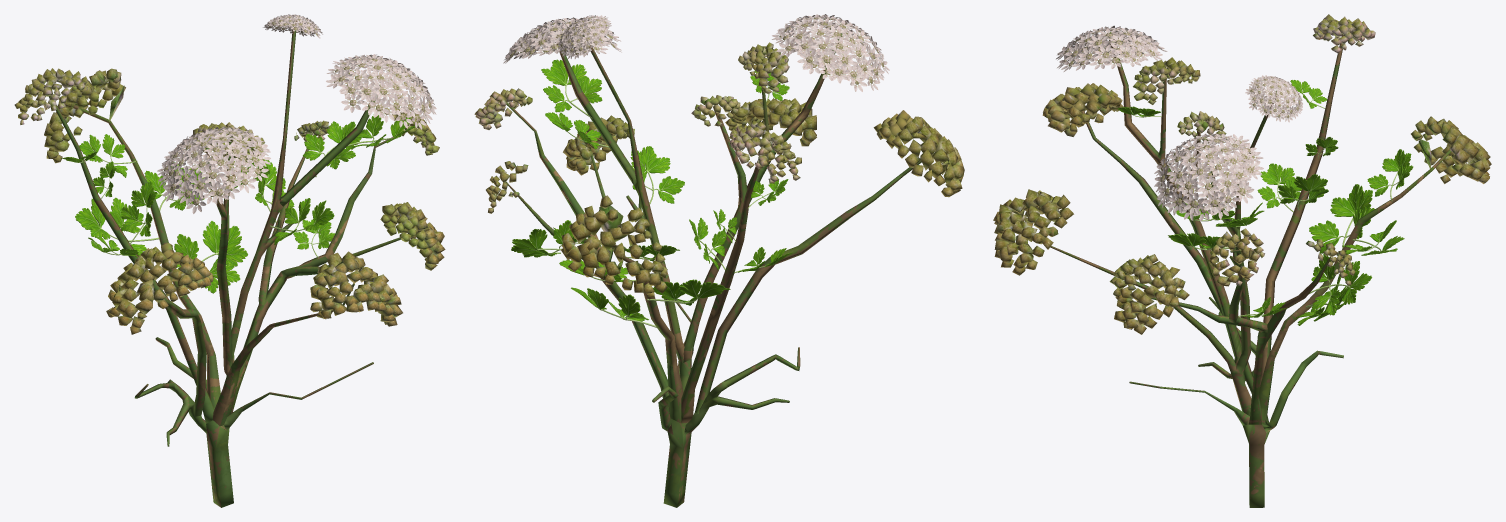
File: cilantro.glb
The picture shows the model from 3 angles, left to right: view 1: azimuth 30°, elevation 25°; view 2: azimuth 150°, elevation 25°; view 3: azimuth 270°, elevation 25°; orthographic projection.
Visible parts, largest first — view 1: Vert.001, Vert, Cube.003, Cube.001, Mesh0, Mesh0.002, Mesh0.009, Mesh0.005, Mesh0.010, Cube.002, Mesh0.003, Mesh0.008 (+3 smaller); view 2: Vert, Vert.001, Cube.003, Cube.001, Mesh0.008, Cube.002, Mesh0.010, Mesh0.002, Mesh0.012, Mesh0, Mesh0.009, Mesh0.005; view 3: Vert, Vert.001, Cube.001, Cube.003, Cube.002, Mesh0.002, Mesh0.012, Mesh0.004, Mesh0.003, Mesh0.005, Mesh0.001, Mesh0.010.
Part boxes in pixels (x1,y1,x2,y2): Vert.001: (48,21,415,507); Vert: (14,68,445,334); Cube.003: (157,126,270,213); Cube.001: (326,54,436,129); Mesh0: (174,221,247,293); Mesh0.002: (75,197,159,255); Mesh0.009: (303,121,361,176); Mesh0.005: (121,181,157,244); Mesh0.010: (270,198,334,244); Cube.002: (263,14,322,38); Mesh0.003: (79,134,137,177); Mesh0.008: (347,114,418,148); Vert: (474,42,964,297); Vert.001: (505,28,933,507); Cube.003: (771,14,889,91); Cube.001: (503,17,621,63); Mesh0.008: (541,59,602,118); Cube.002: (558,15,611,58); Mesh0.010: (630,146,684,204); Mesh0.002: (647,279,730,305); Mesh0.012: (511,220,576,257); Mesh0: (571,287,656,327); Mesh0.009: (545,112,609,149); Mesh0.005: (689,218,726,270); Vert: (993,14,1491,334); Vert.001: (1039,32,1451,507); Cube.001: (1154,133,1263,221); Cube.003: (1056,25,1167,71); Cube.002: (1245,75,1302,122); Mesh0.002: (1309,184,1374,253); Mesh0.012: (1309,254,1372,315); Mesh0.004: (1257,163,1301,212); Mesh0.003: (1367,149,1413,201); Mesh0.005: (1278,174,1328,210); Mesh0.001: (1342,220,1404,255); Mesh0.010: (1168,233,1228,250).
Size of the model in its own units: 0.792 by 0.8823 by 0.8628.
Materials: 3 (3 with a texture image).
